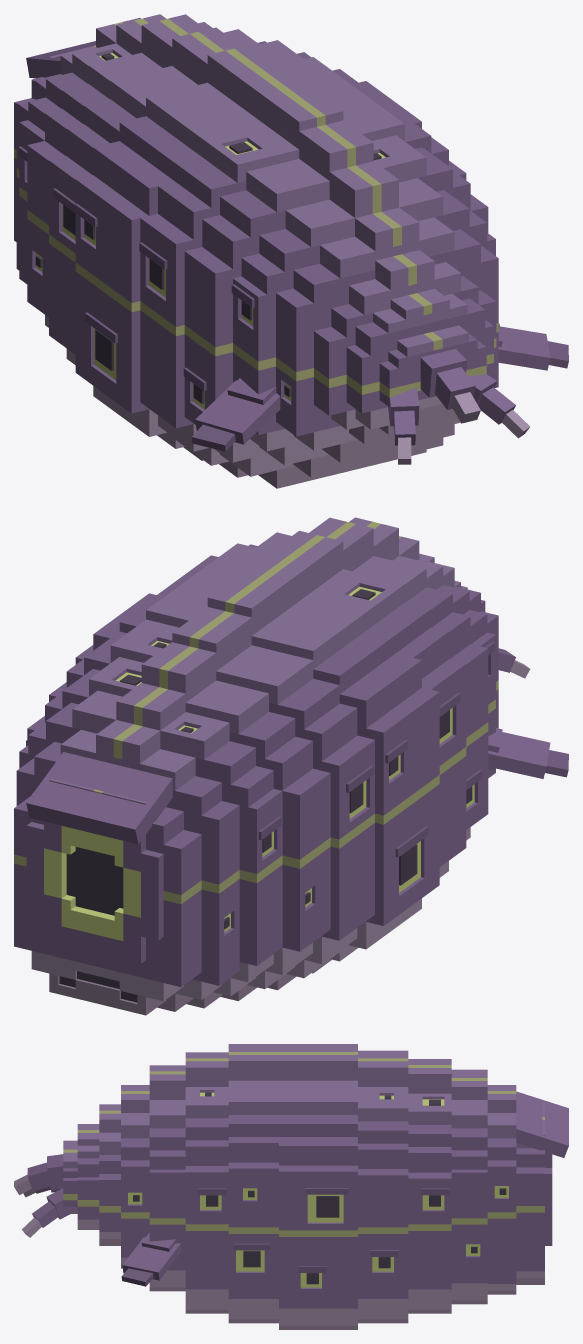
Rendered from AbyssalWatcher.glb.
The picture shows the model from 3 angles, top to bottom: view 1: azimuth 30°, elevation 25°; view 2: azimuth 150°, elevation 25°; view 3: azimuth 270°, elevation 25°; orthographic projection. The views are drawn at different scales.
Visible parts, largest first — view 1: Body, R1, R2, R4, R3, FinL, TendrilM, FinR, TendrilL, TendrilR, Body_Glow; view 2: Body, Body_Glow, R1, FinL, R2; view 3: Body, R1, R2, R4, R3, Body_Glow, FinR, TendrilM, TendrilR.
Boxes of the visible parts, x1,y1,x2,y2 form: Body: (14, 14, 488, 488); R1: (231, 161, 495, 477); R2: (276, 207, 498, 462); R4: (346, 288, 493, 434); R3: (314, 250, 496, 443); FinL: (191, 378, 280, 451); TendrilM: (420, 349, 480, 423); FinR: (498, 323, 568, 370); TendrilL: (388, 387, 419, 464); TendrilR: (468, 374, 530, 438); Body_Glow: (36, 53, 385, 409); Body: (14, 517, 488, 1015); Body_Glow: (44, 586, 474, 940); R1: (349, 517, 495, 777); FinL: (488, 728, 568, 778); R2: (399, 536, 498, 728); Body: (185, 1044, 568, 1329); R1: (149, 1065, 185, 1291); R2: (121, 1085, 149, 1268); R4: (63, 1124, 99, 1229); R3: (99, 1104, 120, 1245); Body_Glow: (200, 1092, 508, 1287); FinR: (121, 1233, 181, 1286); TendrilM: (14, 1154, 63, 1195); TendrilR: (22, 1188, 77, 1237).
Size of the model in its own units: 21.41 by 19 by 38.6.
